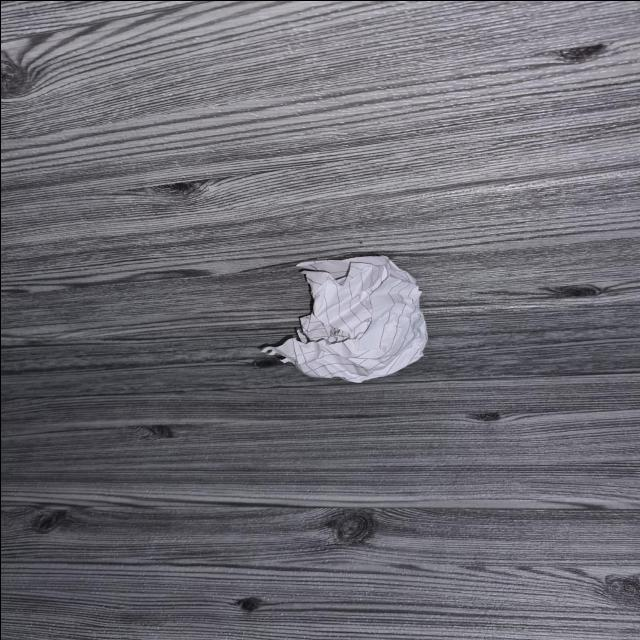kertas: (264, 255, 432, 386)
